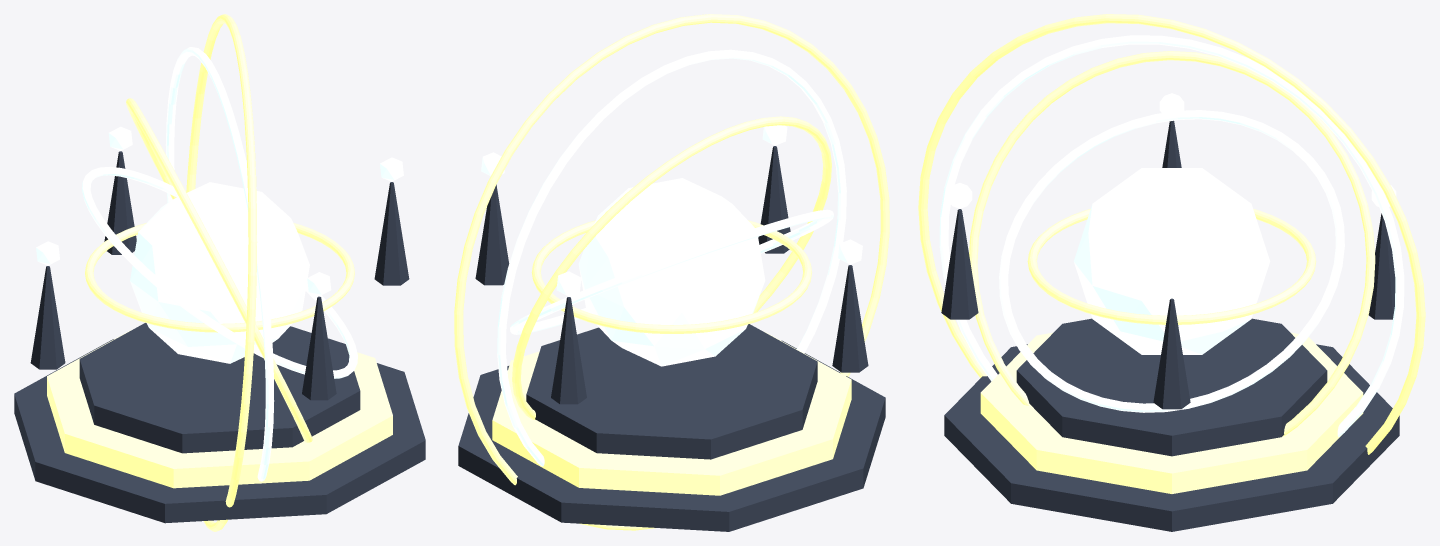
Rendered from gpu-blender-v42.glb.
3 renders of one model, left to right at view 1: azimuth 30°, elevation 25°; view 2: azimuth 150°, elevation 25°; view 3: azimuth 270°, elevation 25°, orthographic. The views are drawn at different scales.
Parts seen in each view (by area): view 1: Cylinder.002, SovereignCore_storefront-catalog, Cylinder, Cylinder.001, Torus.004, Torus.003, Torus.001, Torus, Torus.002, Cone.003, Cone, Cone.002 (+1 smaller); view 2: Cylinder.002, SovereignCore_storefront-catalog, Cylinder, Cylinder.001, Torus.004, Torus.003, Torus.002, Torus, Torus.001, Cone.001, Cone.002, Cone (+1 smaller); view 3: SovereignCore_storefront-catalog, Cylinder.002, Cylinder, Cylinder.001, Torus.004, Torus.001, Torus.003, Torus.002, Torus, Cone, Cone.003, Cone.001 (+1 smaller).
Part boxes in pixels (x1,y1,x2,y2): Cylinder.002: (79,323,360,453); SovereignCore_storefront-catalog: (130,182,309,363); Cylinder: (14,339,425,523); Cylinder.001: (47,330,392,488); Torus.004: (186,14,257,531); Torus.003: (165,47,274,483); Torus.001: (82,166,357,378); Torus: (85,223,354,332); Torus.002: (126,98,312,442); Cone.003: (302,296,336,400); Cone: (374,182,409,285); Cone.002: (30,266,65,369); Cylinder.002: (526,324,817,459); SovereignCore_storefront-catalog: (578,178,765,366); Cylinder: (458,340,885,531); Cylinder.001: (492,331,851,495); Torus.004: (454,14,889,530); Torus.003: (497,49,846,466); Torus.002: (512,116,831,419); Torus: (531,220,812,333); Torus.001: (510,209,833,334); Cone.001: (551,297,586,404); Cone.002: (832,265,868,372); Cone: (475,184,509,285); SovereignCore_storefront-catalog: (1073,168,1270,354); Cylinder.002: (1016,318,1327,456); Cylinder: (944,344,1399,531); Cylinder.001: (980,332,1363,493); Torus.004: (918,14,1425,454); Torus.001: (999,110,1344,412); Torus.003: (939,35,1404,437); Torus.002: (969,51,1375,435); Torus: (1027,209,1316,324); Cone: (1153,298,1190,409); Cone.003: (941,209,978,319); Cone.001: (1368,213,1395,319).
Bounding box in the file's own units: 4.41 × 5.33 × 4.9.
